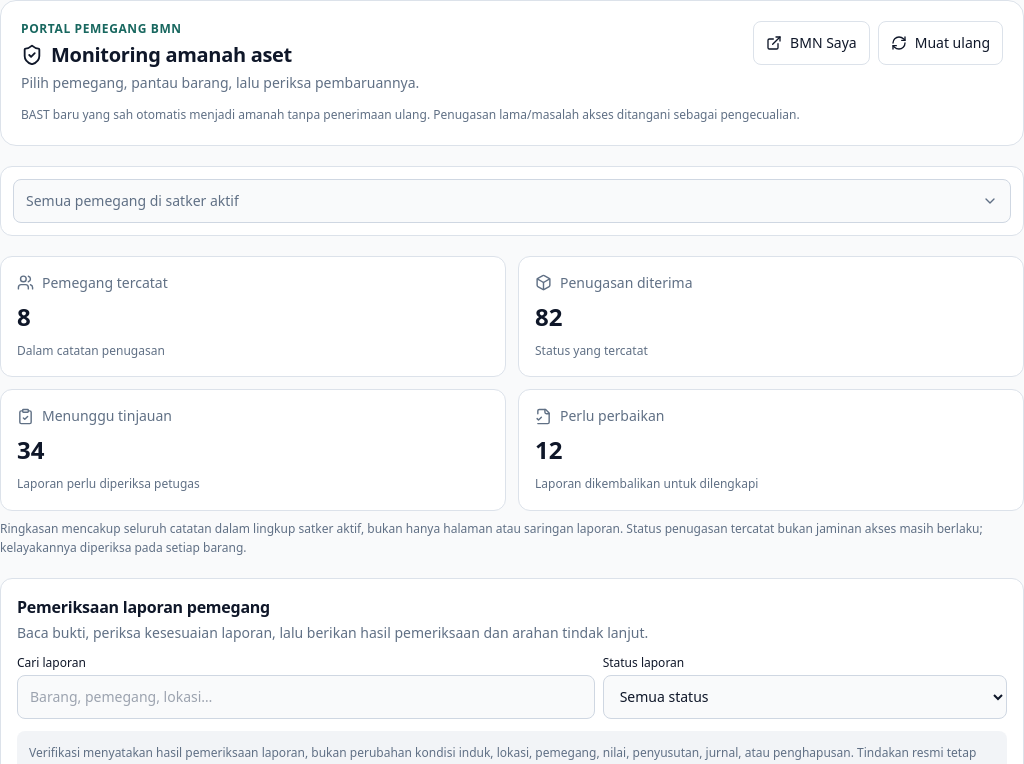
Scenario: operator boleh memeriksa laporan, tidak memiliki tombol persetujuan atau pemetaan akses
Click the button with test id "portal-admin-pegawai" at (132, 200), box x1=13 y1=178 x2=1011 y2=222
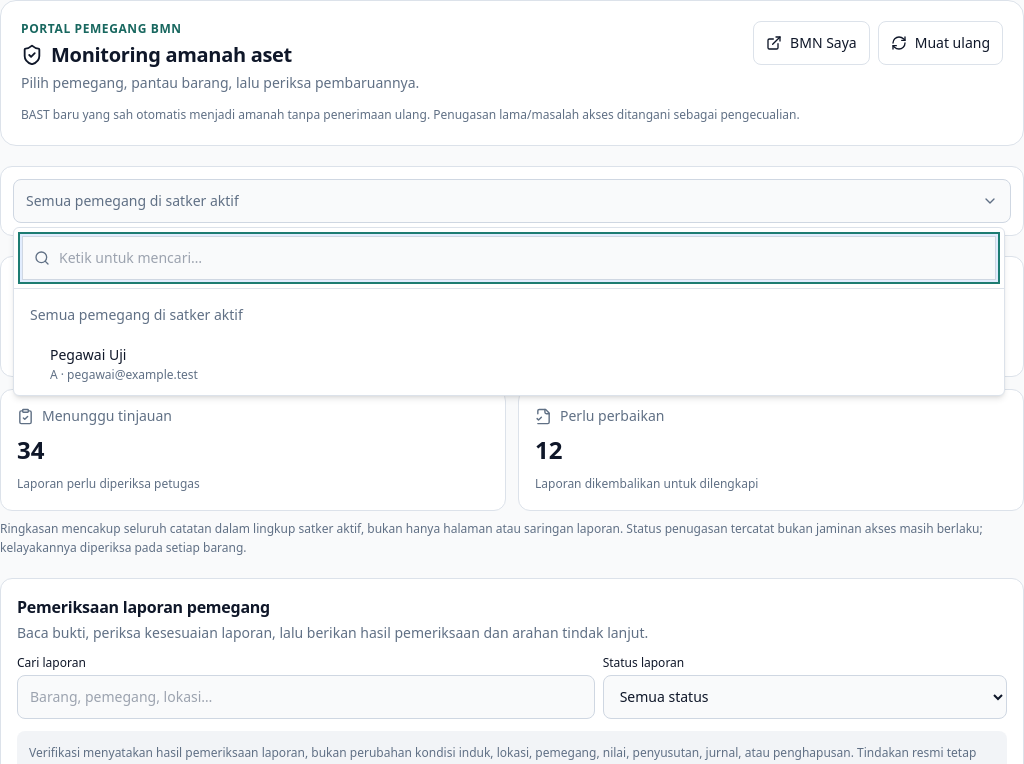
Click the option with test id "portal-admin-pegawai-option-p1" at (88, 354), box x1=18 y1=337 x2=1000 y2=391
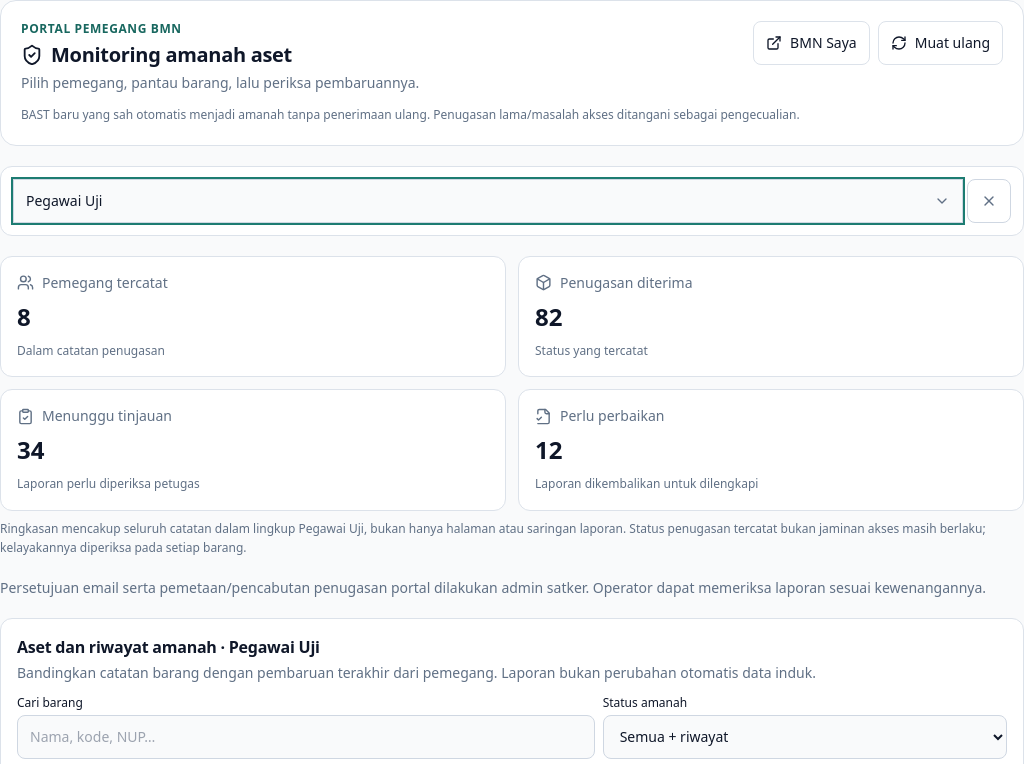
Now the text "Operator dapat memeriksa laporan" is shown, box x1=0 y1=578 x2=986 y2=596
